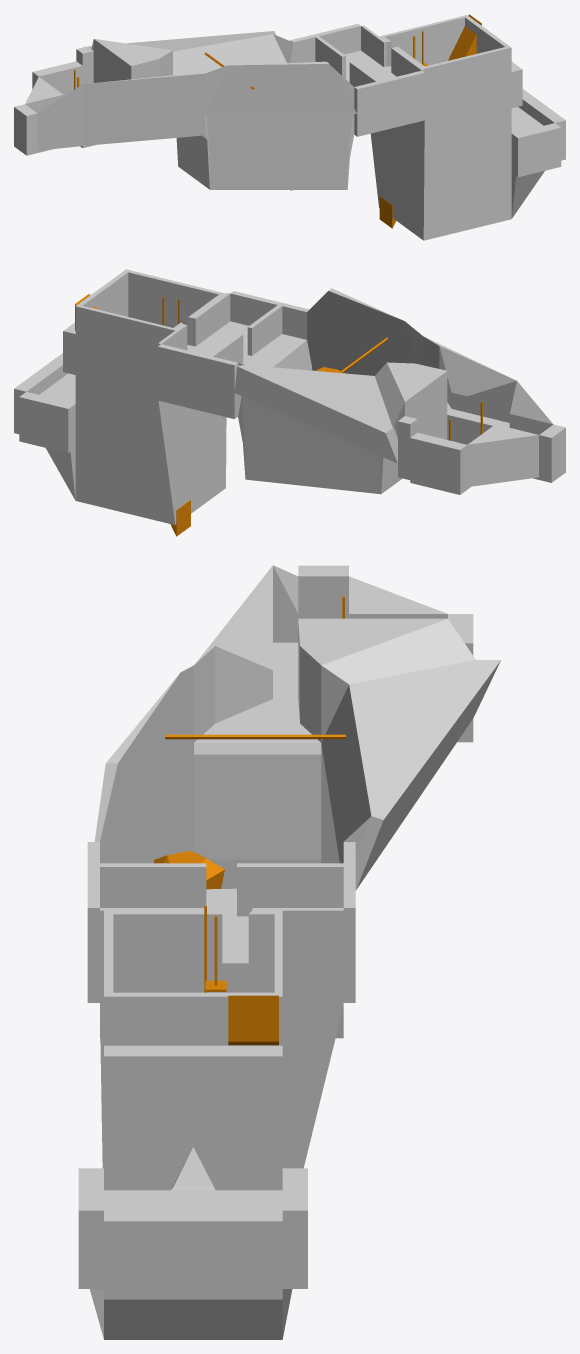
File: Jumping.fbx
3 renders of one model, top to bottom at view 1: azimuth 30°, elevation 25°; view 2: azimuth 150°, elevation 25°; view 3: azimuth 270°, elevation 25°, orthographic. The views are drawn at different scales.
Visible parts, largest first — view 1: Level, Slide; view 2: Level, Slide; view 3: Level, Slide, GrappleLine, Cylinder.
Boxes of the visible parts, bbox=[...] form: Level: bbox=[14, 15, 565, 240]; Slide: bbox=[379, 14, 481, 228]; Level: bbox=[14, 269, 565, 524]; Slide: bbox=[75, 293, 190, 536]; Level: bbox=[78, 565, 500, 1339]; Slide: bbox=[228, 995, 278, 1045]; GrappleLine: bbox=[165, 734, 345, 739]; Cylinder: bbox=[154, 851, 224, 889].
Size of the model in its own units: 4464 by 1871 by 1665.
